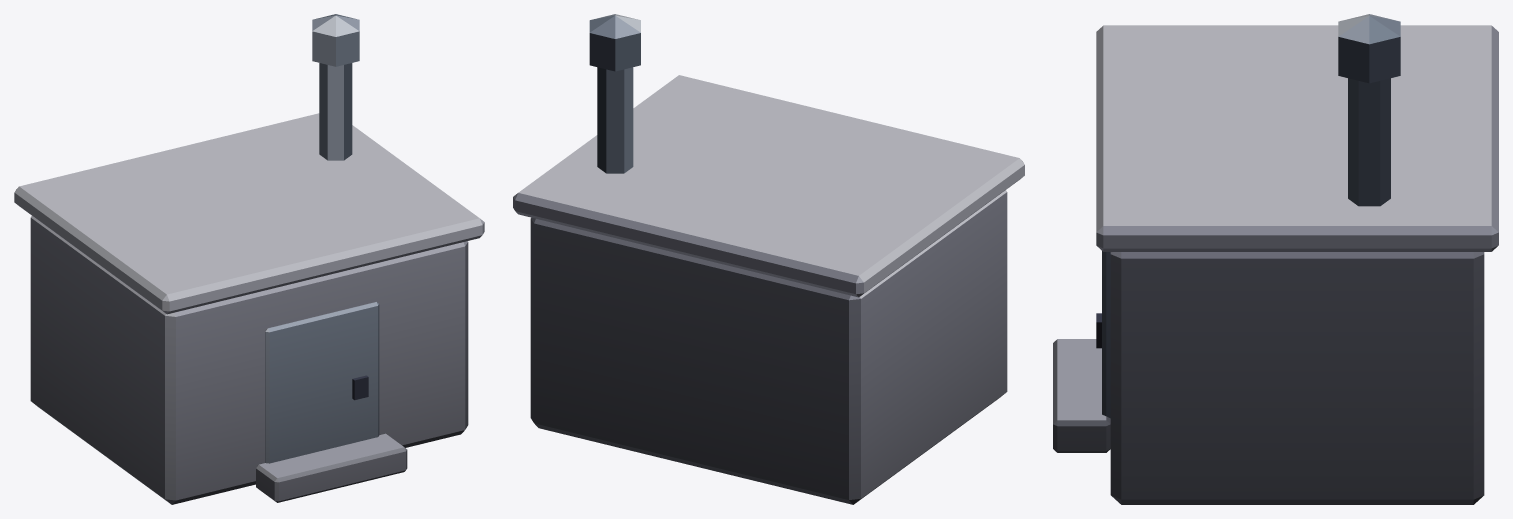
The model's file is roof_hatch.glb.
3 renders of one model, left to right at view 1: azimuth 30°, elevation 25°; view 2: azimuth 150°, elevation 25°; view 3: azimuth 270°, elevation 25°, orthographic. The views are drawn at different scales.
Visible parts, largest first — view 1: roof_hatch; view 2: roof_hatch; view 3: roof_hatch.
Boxes of the visible parts, x1,y1,x2,y2 form: roof_hatch: [14, 14, 484, 504]; roof_hatch: [513, 14, 1024, 504]; roof_hatch: [1053, 14, 1498, 504].
Size of the model in its own units: 0.68 by 0.72 by 0.62.
